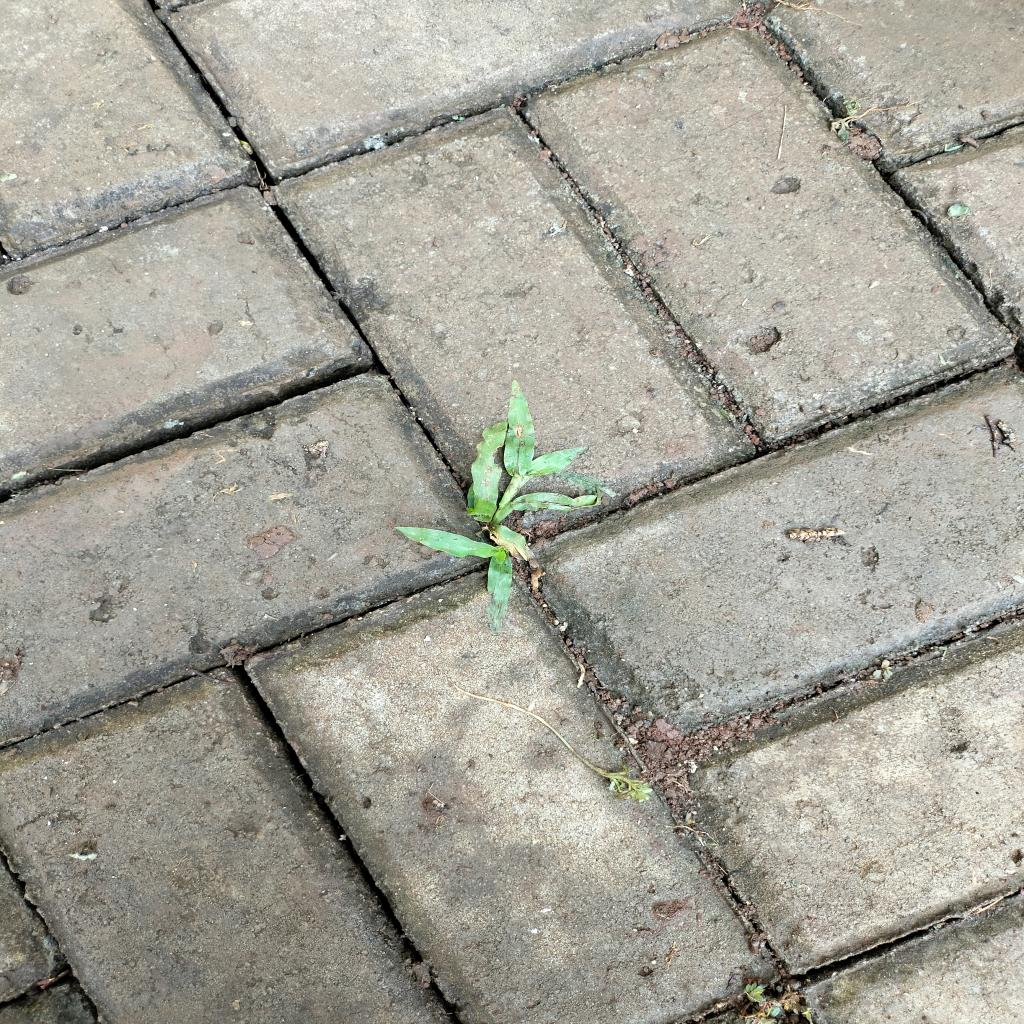bayi: (450, 113, 467, 122)
rambat bawah: (396, 379, 626, 628)
